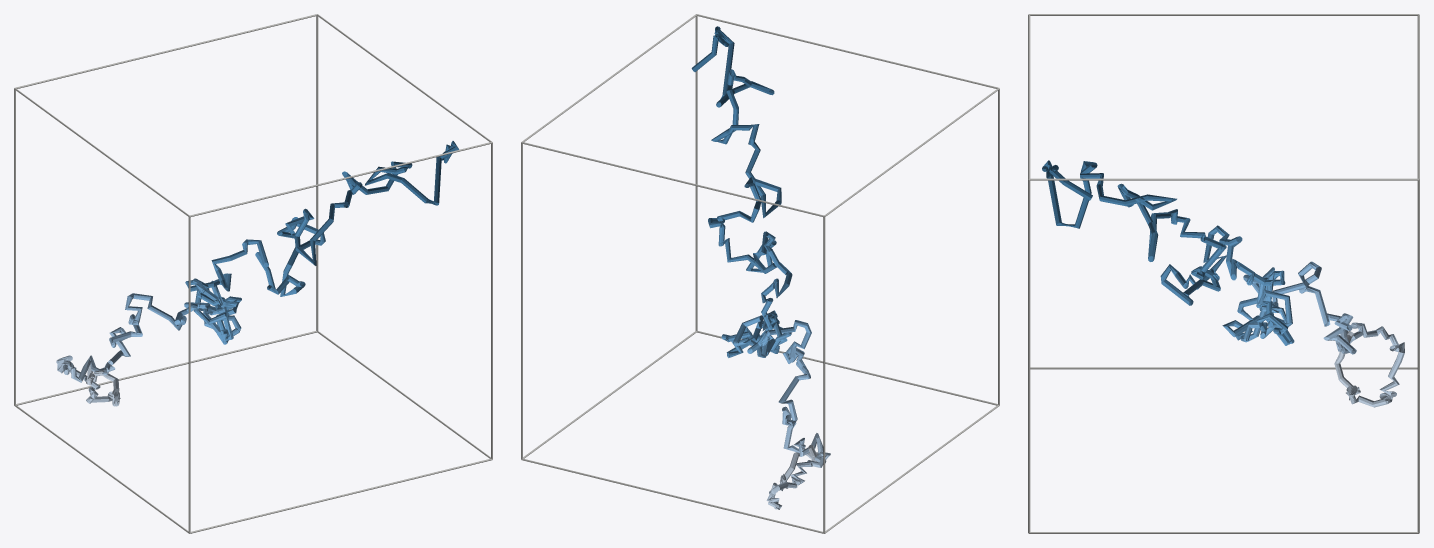
3 views of the same model, side by side, from view 1: azimuth 30°, elevation 25°; view 2: azimuth 150°, elevation 25°; view 3: azimuth 270°, elevation 25° (orthographic). The views are drawn at different scales.
Visible parts, largest first — view 1: geometry_0, geometry_1; view 2: geometry_0, geometry_1; view 3: geometry_0, geometry_1.
Part boxes in pixels (box(x1,y1,x2,y2)): geometry_0: box(56, 141, 458, 406); geometry_1: box(14, 14, 492, 533); geometry_0: box(691, 26, 830, 509); geometry_1: box(521, 14, 999, 533); geometry_0: box(1042, 160, 1404, 407); geometry_1: box(1028, 14, 1419, 533).
Bounding box in the file's own units: 0.3016 × 0.3046 × 0.3016.
